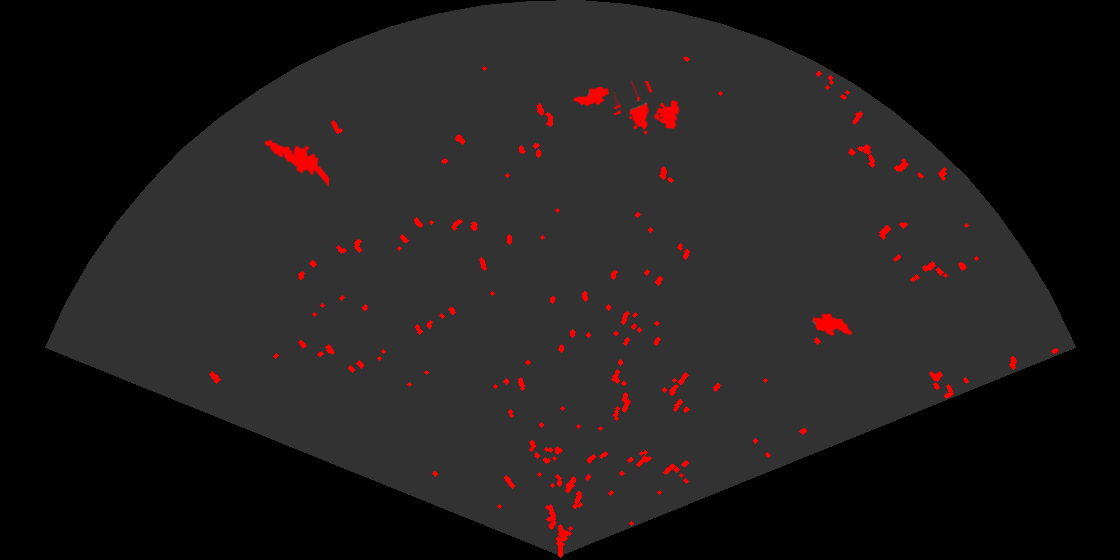AUV: (810, 311, 855, 337), (571, 85, 611, 108)
cage: (614, 81, 681, 136)
frogman: (263, 138, 329, 189)
